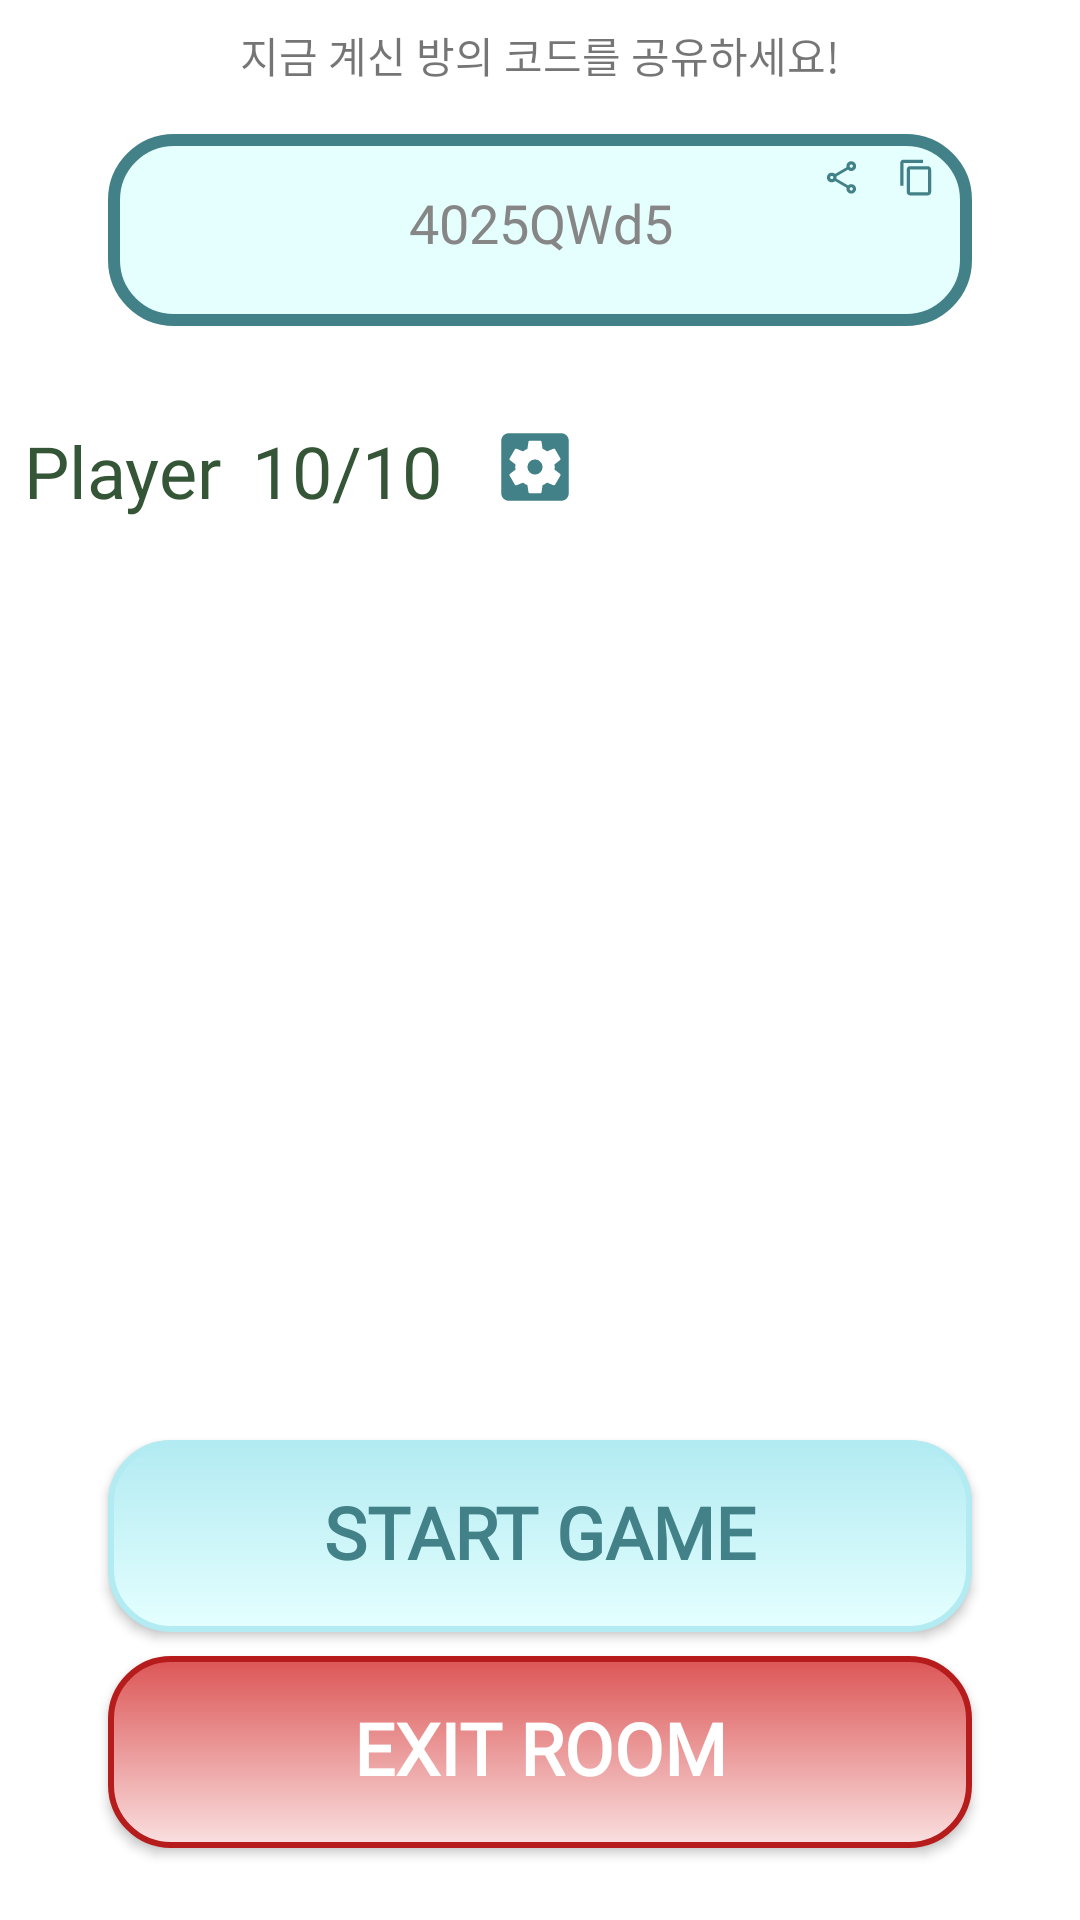

Where icons sit on this 1080*1920 app screen, as (x1, y1, x2, y2):
settings applications: (501, 433, 569, 501)
share: (827, 161, 856, 194)
